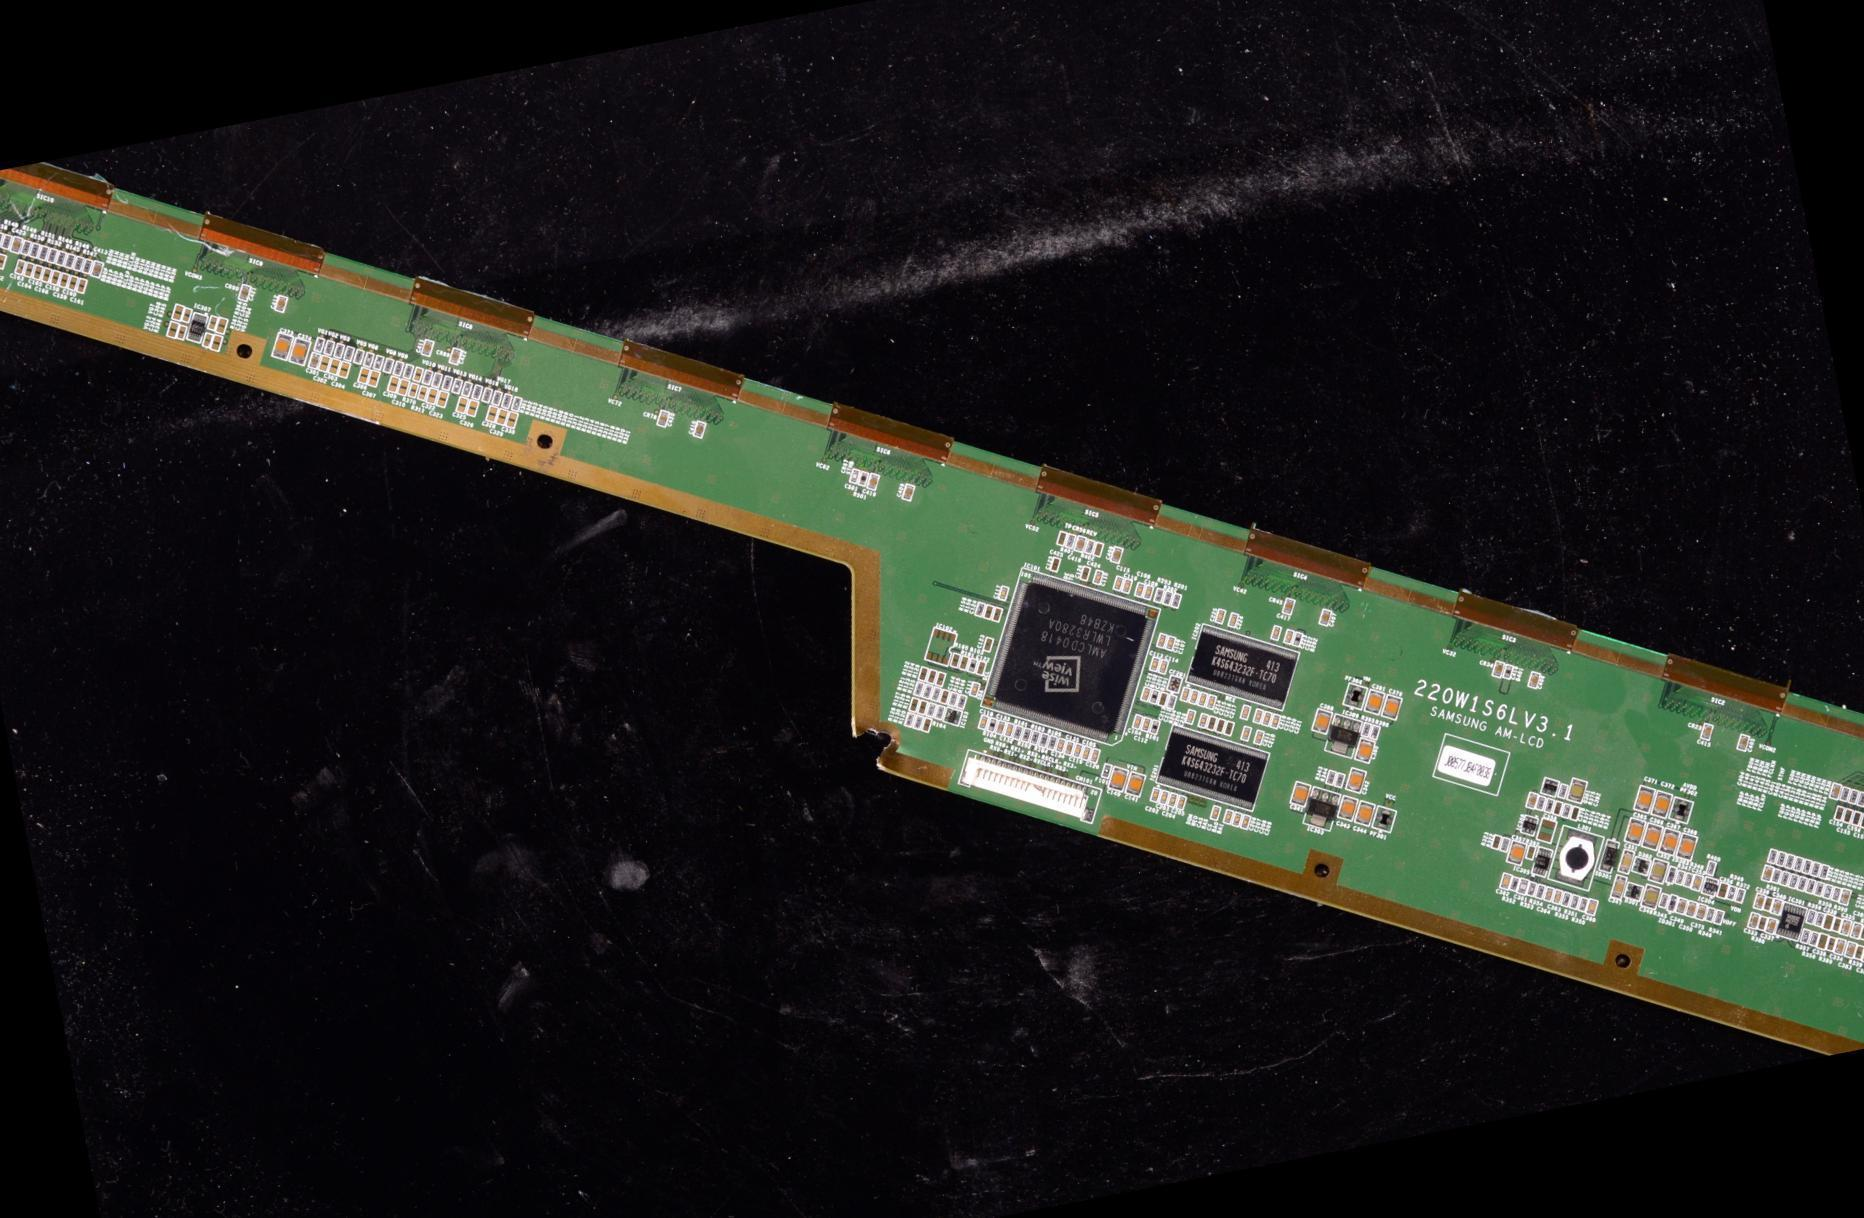Capacitor: (1334, 787, 1370, 828), (267, 323, 301, 364), (1350, 795, 1387, 832), (1619, 812, 1656, 849), (1645, 784, 1683, 819), (1672, 827, 1712, 860), (1361, 682, 1396, 717), (1628, 779, 1663, 814), (284, 332, 316, 369), (1636, 881, 1671, 914), (1285, 777, 1319, 810), (1641, 820, 1673, 855), (1657, 823, 1691, 855), (1532, 813, 1564, 846), (1378, 688, 1407, 724), (890, 478, 927, 506), (1351, 734, 1383, 765), (1120, 767, 1150, 800), (1644, 855, 1677, 885), (1309, 705, 1339, 737), (1604, 875, 1639, 902), (1310, 603, 1343, 631), (1103, 764, 1133, 793), (1565, 772, 1595, 801), (1613, 846, 1643, 875), (412, 328, 440, 358), (444, 340, 474, 368), (271, 282, 294, 318), (1504, 838, 1533, 866), (1345, 764, 1374, 791), (863, 469, 889, 497), (687, 417, 714, 442), (1492, 869, 1517, 895), (232, 276, 255, 303), (1483, 660, 1511, 682), (1528, 665, 1550, 692), (839, 466, 866, 488), (450, 393, 474, 417), (1278, 595, 1303, 618), (432, 389, 457, 412), (1262, 621, 1288, 643), (1835, 887, 1862, 908), (1087, 745, 1111, 768), (1823, 779, 1848, 801), (43, 268, 68, 290), (1713, 877, 1734, 903), (324, 353, 346, 377), (652, 408, 677, 429), (1104, 545, 1130, 565), (1756, 862, 1779, 884), (380, 373, 402, 396), (1106, 543, 1130, 564), (1768, 894, 1789, 918), (1673, 896, 1693, 921), (1584, 897, 1606, 919), (1071, 535, 1094, 556), (1749, 889, 1772, 910), (313, 350, 334, 373), (1521, 789, 1542, 811), (206, 329, 228, 350), (464, 396, 485, 418), (1205, 801, 1225, 824), (1684, 898, 1704, 921), (1181, 705, 1203, 725), (74, 274, 96, 294), (1090, 538, 1110, 559), (993, 582, 1014, 602), (1838, 916, 1858, 937), (213, 314, 233, 335), (405, 378, 425, 399), (17, 261, 39, 280), (167, 300, 186, 322), (305, 349, 324, 371), (504, 411, 526, 430), (12, 254, 29, 278), (88, 255, 105, 279), (54, 273, 78, 290), (365, 366, 382, 390), (1047, 553, 1066, 574), (1744, 913, 1765, 932), (160, 318, 179, 339), (492, 408, 513, 427), (978, 636, 1000, 654), (1687, 872, 1709, 890), (1841, 938, 1859, 960), (8, 232, 26, 254), (336, 359, 354, 381), (421, 389, 443, 407), (480, 406, 502, 424), (1514, 879, 1534, 898), (1237, 702, 1255, 723), (1837, 808, 1858, 826), (355, 364, 373, 385), (395, 374, 410, 399), (1138, 712, 1155, 734), (34, 267, 57, 283), (1074, 565, 1094, 583), (1173, 795, 1193, 813), (1219, 807, 1237, 827), (1830, 805, 1850, 823), (1542, 884, 1560, 904), (1694, 902, 1712, 922), (1225, 611, 1246, 628), (1268, 712, 1289, 729), (1234, 725, 1255, 742), (1251, 728, 1272, 745), (64, 274, 85, 291), (990, 606, 1009, 624), (1130, 580, 1148, 599), (1144, 656, 1162, 675), (1258, 709, 1276, 728), (1814, 932, 1833, 950), (1831, 937, 1850, 955), (409, 365, 428, 383), (1090, 569, 1110, 586), (28, 264, 48, 281), (414, 385, 434, 402), (972, 715, 993, 731), (1078, 743, 1096, 761), (1119, 577, 1136, 596), (1249, 707, 1268, 724), (1821, 912, 1840, 929), (1847, 922, 1863, 942), (1054, 530, 1071, 548), (1142, 583, 1160, 600), (1053, 738, 1071, 755), (1149, 786, 1166, 804), (1157, 787, 1174, 805), (1764, 918, 1782, 935), (1847, 810, 1863, 829), (1070, 741, 1087, 758), (1240, 813, 1257, 830), (1211, 608, 1229, 624), (1196, 711, 1212, 729), (1162, 635, 1181, 650), (1129, 712, 1144, 731), (1111, 576, 1127, 593), (974, 660, 991, 676), (1003, 723, 1019, 740), (1205, 694, 1221, 711), (1156, 657, 1174, 672), (1180, 684, 1196, 700), (1062, 740, 1078, 756), (1230, 812, 1246, 828), (1139, 684, 1154, 701), (1166, 793, 1183, 808), (1550, 890, 1567, 905), (0, 249, 11, 272), (993, 718, 1008, 734), (1187, 688, 1202, 704), (1155, 632, 1170, 647), (939, 689, 953, 704), (1196, 693, 1210, 706), (1857, 947, 1863, 967), (0, 247, 4, 269), (1858, 814, 1863, 830)
IC: (945, 547, 1189, 773), (1173, 593, 1314, 731), (1140, 709, 1285, 824), (1767, 892, 1818, 943), (1321, 712, 1367, 766), (920, 621, 959, 668), (180, 305, 217, 345), (1526, 842, 1562, 877), (1513, 811, 1547, 838), (1692, 874, 1723, 902)
Resistor: (309, 329, 333, 354), (358, 345, 381, 368), (1732, 883, 1754, 906), (895, 708, 917, 730), (1841, 785, 1863, 807), (329, 340, 351, 362), (1703, 902, 1724, 925), (338, 341, 361, 362), (349, 345, 372, 366), (1487, 831, 1507, 855), (1832, 784, 1856, 804), (1710, 909, 1734, 929), (1573, 895, 1595, 916), (1355, 720, 1378, 740), (1723, 883, 1746, 903), (853, 468, 876, 488), (1502, 876, 1526, 895), (1529, 884, 1553, 903), (369, 351, 390, 372), (1800, 879, 1822, 899), (1168, 589, 1191, 608), (1149, 584, 1169, 605), (498, 390, 519, 410), (1701, 856, 1723, 875), (1799, 855, 1818, 877), (1007, 722, 1027, 742), (1331, 769, 1351, 789), (1829, 913, 1849, 933), (379, 355, 399, 375), (389, 359, 409, 379), (428, 370, 448, 390), (459, 379, 479, 399), (479, 386, 499, 406), (489, 388, 509, 408), (1654, 891, 1675, 910), (449, 377, 470, 396), (1554, 781, 1576, 799), (1565, 803, 1587, 821), (1522, 881, 1544, 899), (1814, 863, 1836, 881), (27, 242, 49, 260), (969, 598, 989, 617), (1164, 692, 1184, 711), (1201, 714, 1221, 733), (1773, 847, 1792, 867), (1790, 854, 1810, 873), (1801, 908, 1821, 927), (398, 362, 418, 381), (1806, 857, 1827, 875), (1496, 836, 1515, 855), (1805, 930, 1824, 949), (918, 717, 938, 735), (1018, 725, 1038, 743), (1565, 894, 1585, 912), (1043, 734, 1064, 751), (1161, 588, 1179, 607), (930, 704, 949, 722), (909, 714, 928, 732), (1781, 851, 1799, 870), (1767, 865, 1786, 883), (52, 249, 70, 268), (204, 313, 223, 331), (470, 382, 488, 401), (509, 393, 528, 411), (1220, 719, 1240, 736), (1319, 770, 1339, 787), (320, 339, 340, 356), (440, 373, 457, 393), (177, 306, 198, 322), (1559, 803, 1577, 821), (18, 238, 36, 256), (914, 667, 933, 684), (1155, 691, 1174, 708), (1557, 892, 1576, 909), (0, 233, 17, 252), (1823, 934, 1840, 953), (34, 245, 53, 262), (173, 325, 192, 342), (1365, 725, 1386, 740), (60, 253, 81, 268), (1763, 848, 1781, 865), (954, 694, 973, 710), (1792, 876, 1811, 892), (1828, 885, 1844, 904), (924, 668, 941, 685), (1146, 688, 1163, 705), (1027, 729, 1044, 746), (1037, 731, 1054, 748), (1786, 873, 1803, 890), (1813, 910, 1830, 927), (420, 369, 438, 385), (933, 672, 952, 687), (1817, 885, 1836, 900), (78, 259, 97, 274), (1212, 717, 1229, 733), (1534, 795, 1551, 811), (44, 247, 61, 263), (71, 254, 87, 271), (1796, 930, 1814, 945), (910, 681, 926, 697), (929, 687, 945, 703), (906, 697, 922, 713), (1778, 869, 1794, 885), (919, 684, 936, 699), (1542, 798, 1559, 813), (982, 604, 997, 619), (1812, 882, 1827, 897), (1851, 789, 1863, 807), (1851, 944, 1863, 962), (946, 693, 961, 707), (916, 700, 930, 715), (923, 701, 937, 716), (1552, 802, 1566, 817), (200, 333, 215, 346), (0, 229, 9, 248), (1857, 792, 1863, 812), (1858, 923, 1863, 942)
